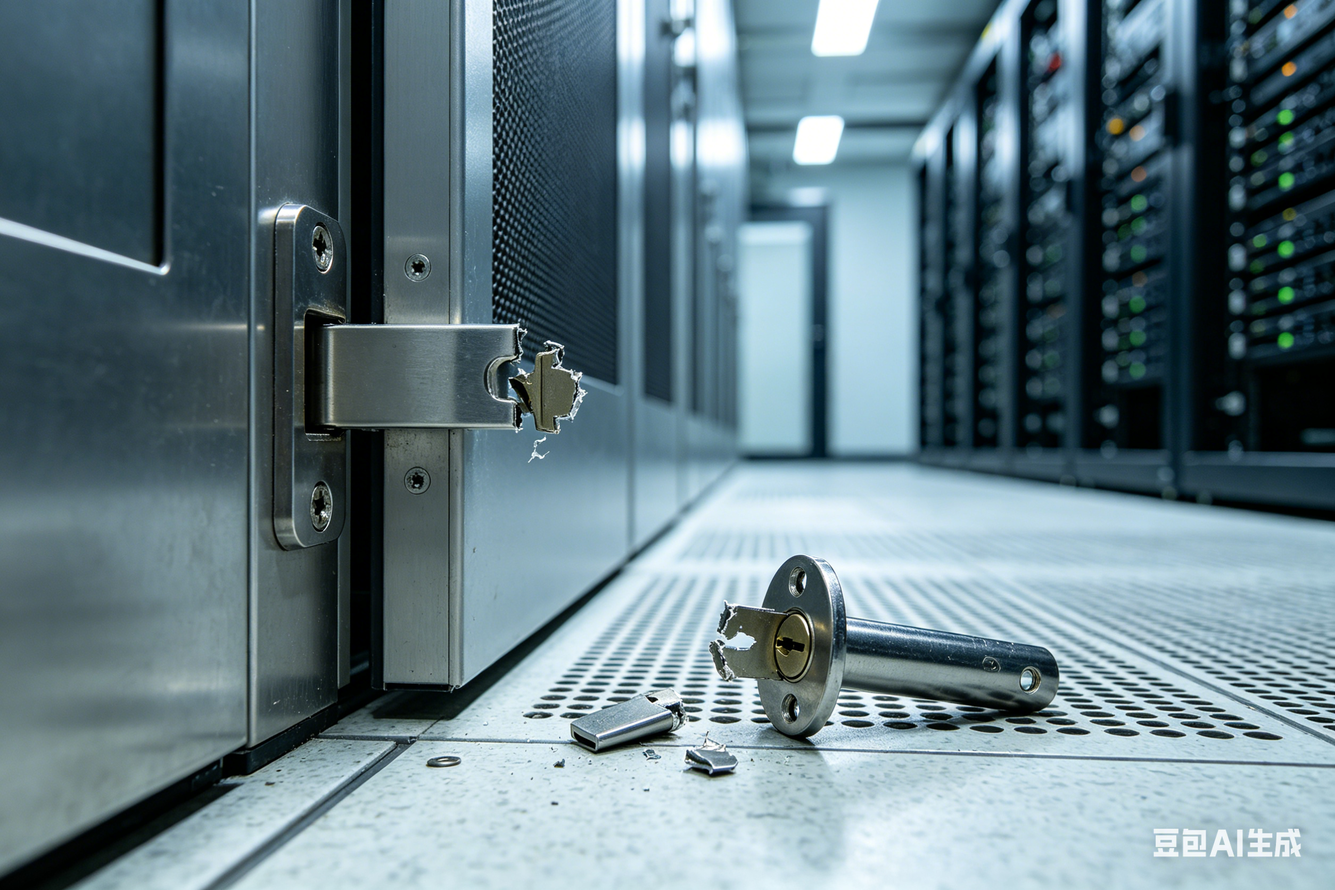BadLock: (678, 561, 856, 744), (488, 317, 594, 441)
